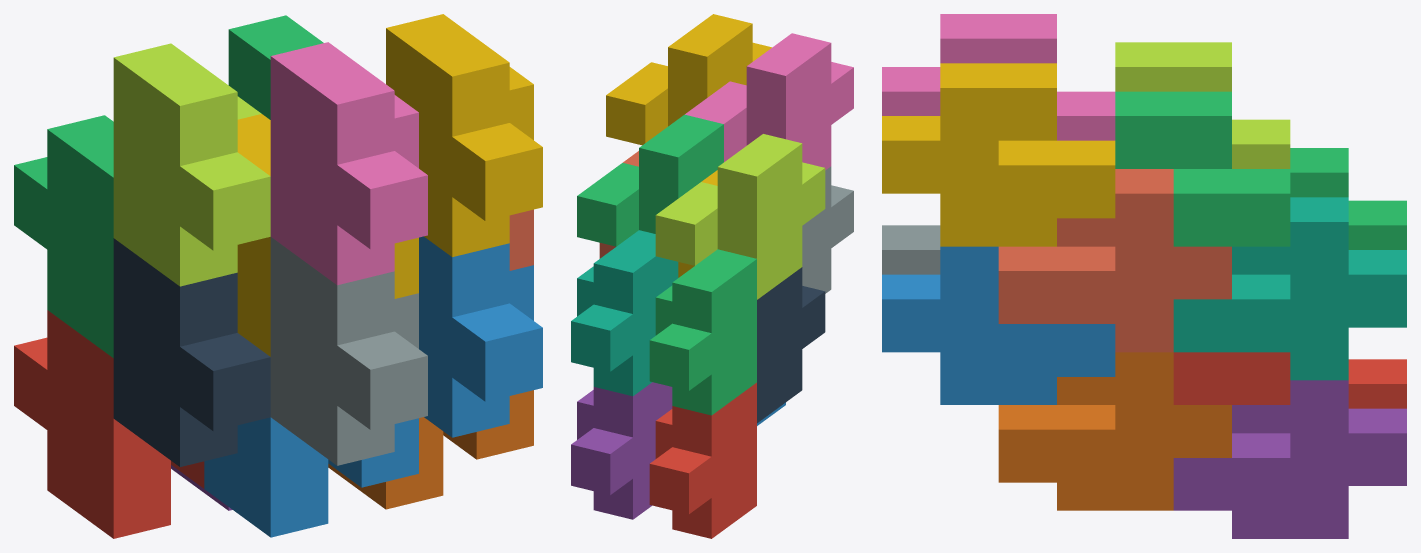
The model's file is tiling.obj.
3 views of the same model, side by side, from view 1: azimuth 30°, elevation 25°; view 2: azimuth 150°, elevation 25°; view 3: azimuth 270°, elevation 25° (orthographic). The views are drawn at different scales.
Visible parts, largest first — view 1: copy_2_domain_4, copy_2_domain_3, copy_2_domain_2, copy_2_domain_8, copy_2_domain_1, copy_1_domain_1, copy_2_domain_6, copy_1_domain_3, copy_1_domain_2, copy_1_domain_4, copy_1_domain_6, copy_2_domain_7 (+1 smaller); view 2: copy_2_domain_3, copy_1_domain_3, copy_2_domain_4, copy_1_domain_1, copy_1_domain_7, copy_2_domain_8, copy_2_domain_7, copy_1_domain_5, copy_2_domain_1, copy_2_domain_2; view 3: copy_2_domain_8, copy_1_domain_6, copy_1_domain_5, copy_1_domain_7, copy_1_domain_8, copy_2_domain_6, copy_2_domain_7, copy_2_domain_4, copy_2_domain_3, copy_2_domain_5, copy_1_domain_3, copy_1_domain_1 (+1 smaller).
Boxes of the visible parts, <box> form: copy_2_domain_4: <box>270,42,427,285</box>; copy_2_domain_3: <box>113,43,270,286</box>; copy_2_domain_2: <box>270,237,427,465</box>; copy_2_domain_8: <box>386,14,542,257</box>; copy_2_domain_1: <box>113,238,270,466</box>; copy_1_domain_1: <box>14,310,204,538</box>; copy_2_domain_6: <box>419,236,542,437</box>; copy_1_domain_3: <box>14,115,113,357</box>; copy_1_domain_2: <box>204,417,418,537</box>; copy_1_domain_4: <box>237,114,418,356</box>; copy_1_domain_6: <box>328,390,533,509</box>; copy_2_domain_7: <box>228,15,323,119</box>; copy_2_domain_3: <box>655,134,825,299</box>; copy_1_domain_3: <box>649,249,756,415</box>; copy_2_domain_4: <box>685,33,853,170</box>; copy_1_domain_1: <box>649,382,756,538</box>; copy_1_domain_7: <box>571,230,678,396</box>; copy_2_domain_8: <box>606,14,771,145</box>; copy_2_domain_7: <box>577,114,723,246</box>; copy_1_domain_5: <box>571,382,672,519</box>; copy_2_domain_1: <box>757,267,825,423</box>; copy_2_domain_2: <box>802,166,853,293</box>; copy_2_domain_8: <box>882,63,1115,246</box>; copy_1_domain_6: <box>998,352,1231,510</box>; copy_1_domain_5: <box>1173,380,1406,538</box>; copy_1_domain_7: <box>1173,197,1406,380</box>; copy_1_domain_8: <box>998,169,1231,352</box>; copy_2_domain_6: <box>882,246,1115,404</box>; copy_2_domain_7: <box>1115,91,1290,246</box>; copy_2_domain_4: <box>882,14,1115,140</box>; copy_2_domain_3: <box>1115,42,1290,168</box>; copy_2_domain_5: <box>1173,352,1290,404</box>; copy_1_domain_3: <box>1290,148,1406,249</box>; copy_1_domain_1: <box>1348,359,1406,408</box>.
Size of the model in its own units: 5 by 9 by 9.
